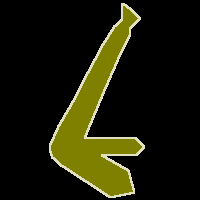tie: (50, 4, 144, 197)
